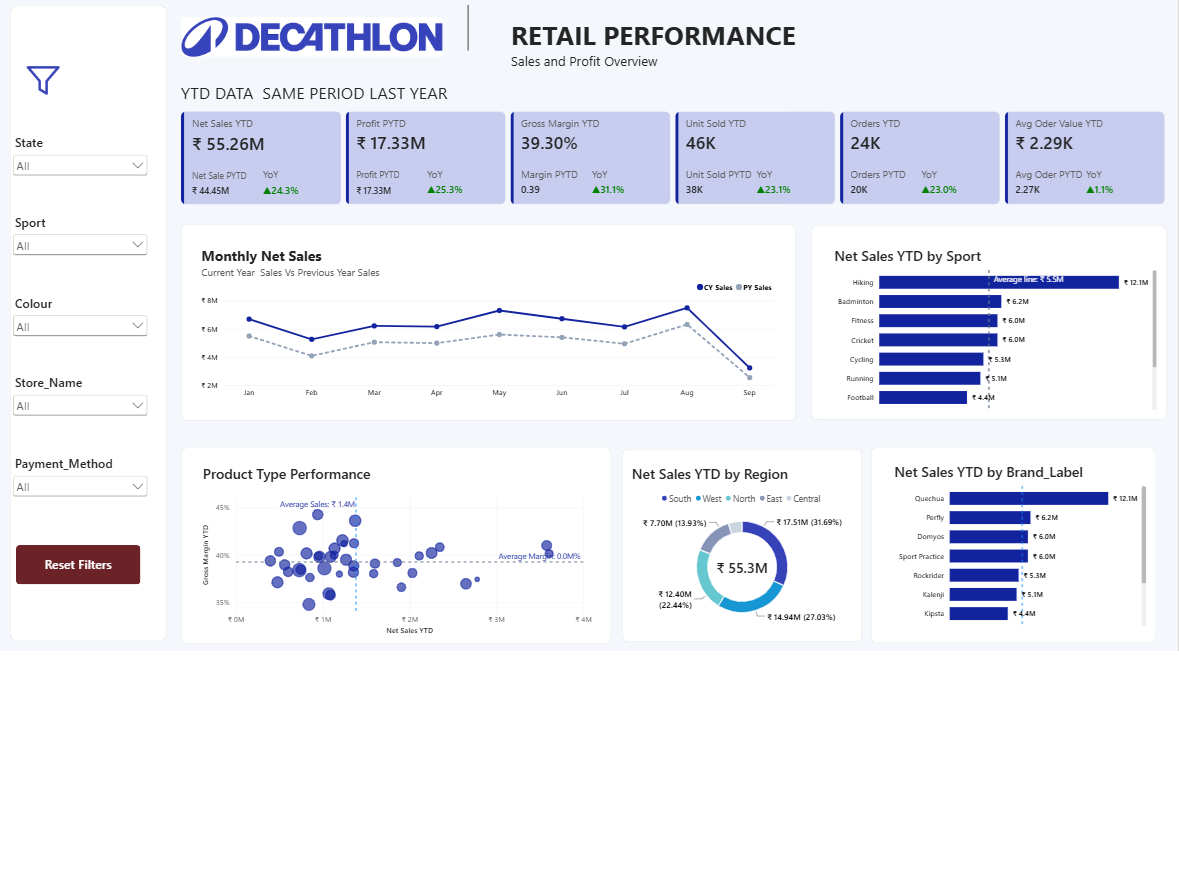

Layout of this report page (visuals, bound fields, positions):
{"tool":"powerbi","page":{"name":"Page 1","canvas":[1920,1080],"ordinal":0},"visuals":[{"type":"shape","box":[19.8,19.8,255,1035],"z":0},{"type":"image","box":[297.6,19.8,425,104],"z":1000},{"type":"textbox","box":[833.4,39.7,572.6,104.9],"z":2000},{"type":"shape","box":[722.8,19.8,85,73.7],"z":3000},{"type":"textbox","box":[297.6,144.6,535.8,48.2],"z":4000},{"type":"cardVisual","fields":{"Data":["MEASURES (2).Net Sales YTD","MEASURES (2).Profit  PYTD","MEASURES (2).Gross Margin YTD","MEASURES (2).Unit Sold YTD","MEASURES (2).Orders YTD","MEASURES (2).Avg Oder Value YTD"]},"box":[297.3,191.9,1602.7,151.4],"z":5000},{"type":"shape","box":[297.4,376.9,1000,320],"z":6000},{"type":"lineChart","title":"Monthly Net Sales ","fields":{"Category":["Date Table.Month Name"],"Y":["MEASURES (2).CY Sales","MEASURES (2).PY Sales"]},"box":[314.6,397.9,964.6,281.2],"z":7000},{"type":"shape","box":[1321.6,378.4,578.4,316.2],"z":8000},{"type":"clusteredBarChart","fields":{"Category":["products.Sport"],"Y":["MEASURES (2).Net Sales YTD"]},"box":[1343.2,397.3,556.8,297.3],"z":9000},{"type":"shape","box":[297.8,739.1,700,320],"z":10000},{"type":"scatterChart","title":"Product Type Performance","fields":{"Category":["products.Product_Type"],"Size":["MEASURES (2).Orders YTD"],"X":["MEASURES (2).Net Sales YTD"],"Y":["MEASURES (2).Gross Margin YTD"]},"box":[316.3,751.2,665.1,309.3],"z":11000},{"type":"shape","box":[1014,741.9,390.7,314],"z":11001},{"type":"donutChart","fields":{"Category":["store.Region"],"Y":["MEASURES (2).Net Sales YTD"]},"box":[1014,751.2,390.7,295.3],"z":11002},{"type":"shape","box":[1420.9,739.5,462.8,318.6],"z":11003},{"type":"clusteredBarChart","fields":{"Category":["products.Brand_Label"],"Y":["MEASURES (2).Net Sales YTD"]},"box":[1441.9,748.8,441.9,297.7],"z":11004},{"type":"slicer","fields":{"Values":["store.State"]},"box":[20.5,228.2,228.2,115.4],"z":11005},{"type":"slicer","fields":{"Values":["products.Sport"]},"box":[20.5,359,228.2,115.4],"z":11006},{"type":"slicer","fields":{"Values":["products.Colour"]},"box":[20.5,489.7,228.2,115.4],"z":11007},{"type":"slicer","fields":{"Values":["store.Store_Name"]},"box":[20.5,620.5,228.2,115.4],"z":11008},{"type":"slicer","fields":{"Values":["sales.Payment_Method"]},"box":[20.5,751.3,228.2,115.4],"z":11009},{"type":"image","box":[20.5,107.7,107.7,71.8],"z":11010},{"type":"actionButton","box":[28.2,897.4,202.6,64.1],"z":11011}]}

Visuals, with their boxes on the page's 1920x1080 design canvas (x1, y1, x2, y2). These are canvas units, not pixel positions in the 1179x896 screenshot, which may show the page scaled, cropped or inside an application window:
shape: 20:20:275:1055
image: 298:20:723:124
textbox: 833:40:1406:145
shape: 723:20:808:94
textbox: 298:145:833:193
cardVisual - MEASURES (2).Net Sales YTD x MEASURES (2).Profit  PYTD: 297:192:1900:343
shape: 297:377:1297:697
"Monthly Net Sales " lineChart: 315:398:1279:679
shape: 1322:378:1900:695
clusteredBarChart - products.Sport x MEASURES (2).Net Sales YTD: 1343:397:1900:695
shape: 298:739:998:1059
"Product Type Performance" scatterChart: 316:751:981:1060
shape: 1014:742:1405:1056
donutChart - store.Region x MEASURES (2).Net Sales YTD: 1014:751:1405:1046
shape: 1421:740:1884:1058
clusteredBarChart - products.Brand_Label x MEASURES (2).Net Sales YTD: 1442:749:1884:1046
slicer - store.State: 20:228:249:344
slicer - products.Sport: 20:359:249:474
slicer - products.Colour: 20:490:249:605
slicer - store.Store_Name: 20:620:249:736
slicer - sales.Payment_Method: 20:751:249:867
image: 20:108:128:180
actionButton: 28:897:231:962
